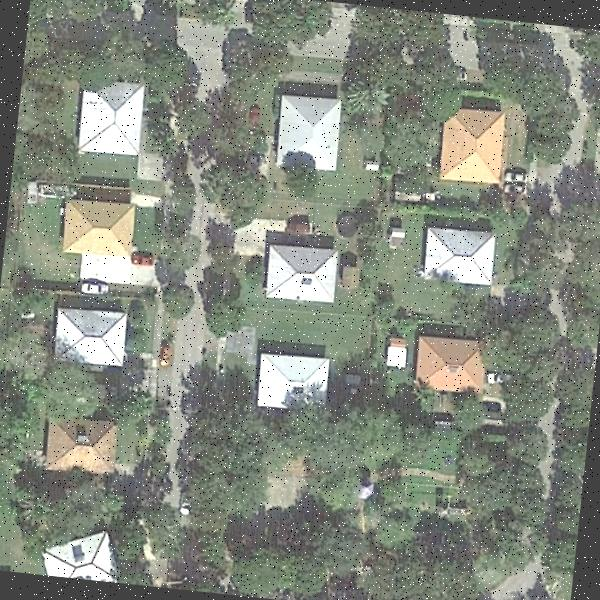Buildings: (38, 410, 120, 477), (76, 85, 144, 163), (439, 115, 510, 183), (54, 308, 136, 366), (57, 192, 138, 250), (422, 229, 500, 286), (38, 518, 109, 580), (277, 94, 338, 164), (254, 348, 325, 406), (266, 250, 334, 300), (414, 344, 480, 384)
